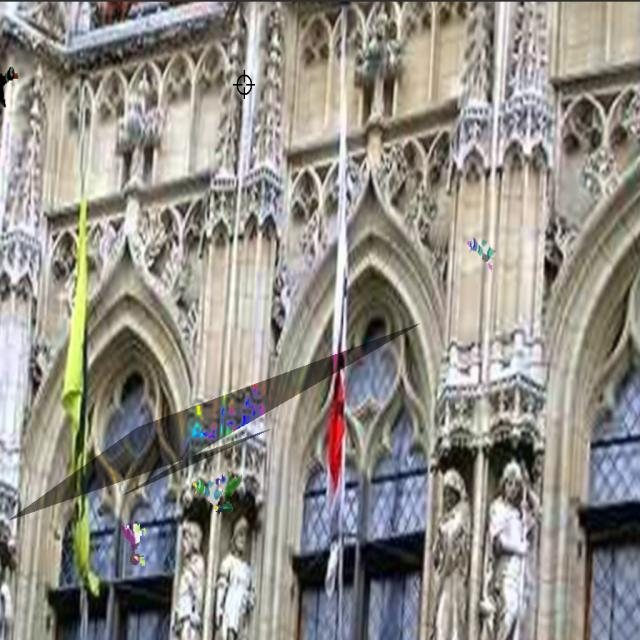duck: (459, 232, 503, 275), (193, 471, 227, 520), (218, 466, 243, 513), (0, 62, 23, 112)
falling_duck: (118, 521, 150, 571)
